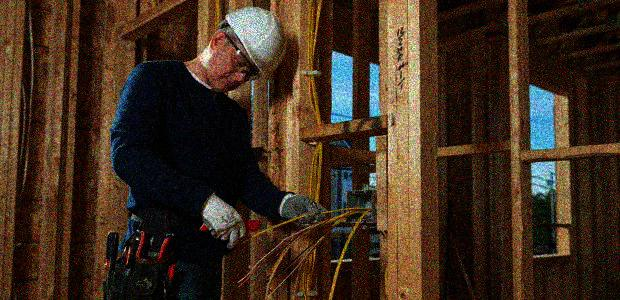helmet: (206, 6, 289, 98)
